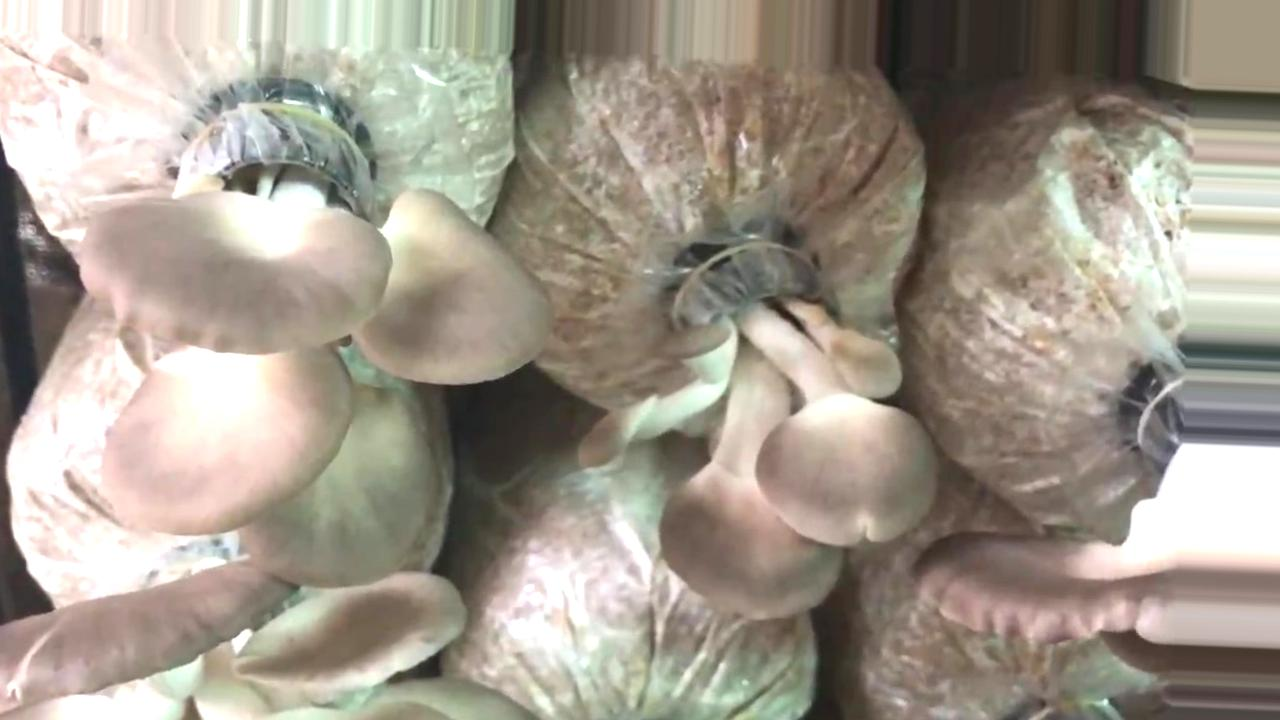nam: (77, 107, 545, 580), (581, 252, 923, 620), (1, 562, 517, 717), (913, 520, 1146, 635)
